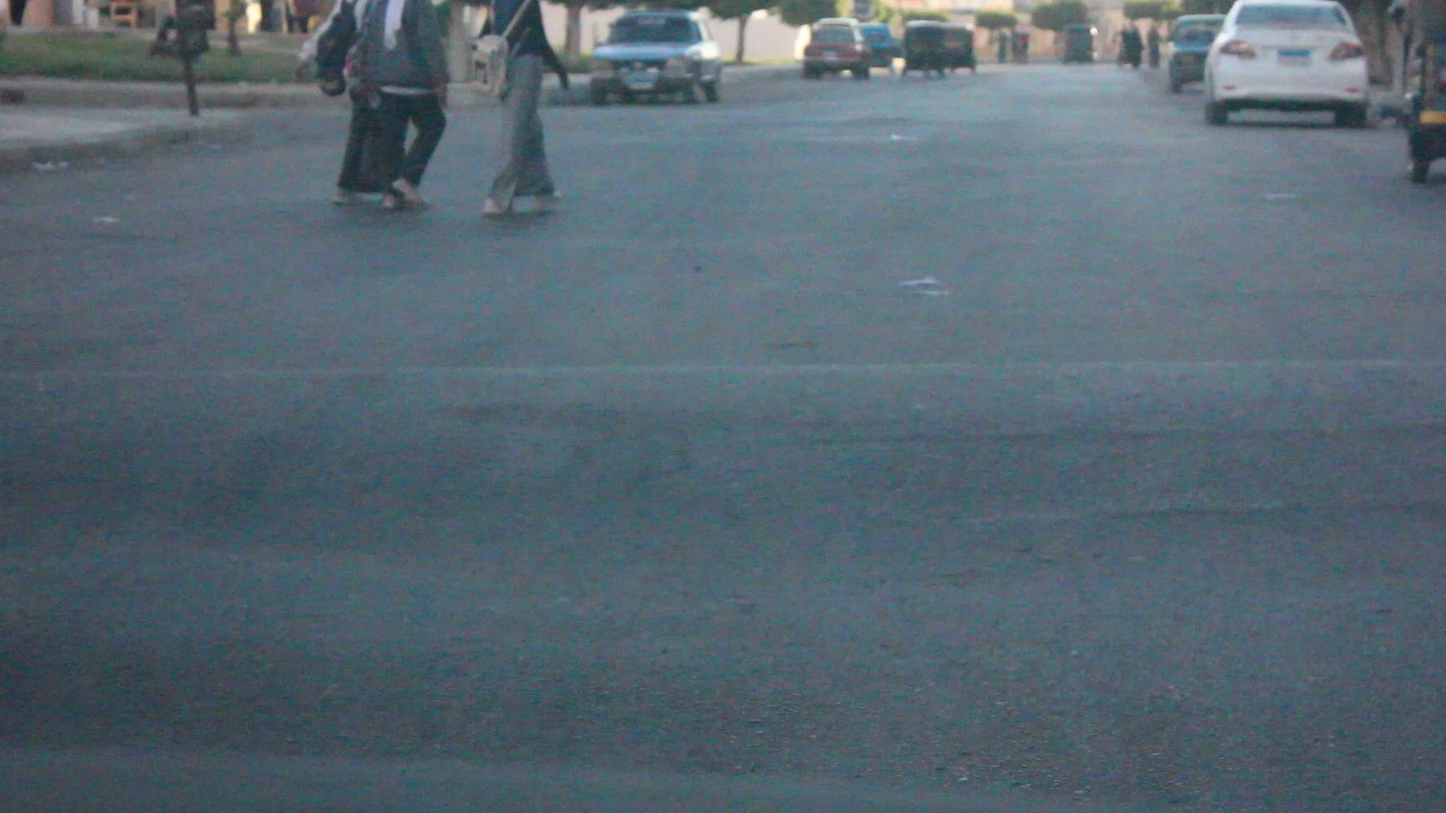Bump: (0, 544, 1444, 745), (2, 361, 1446, 529)
